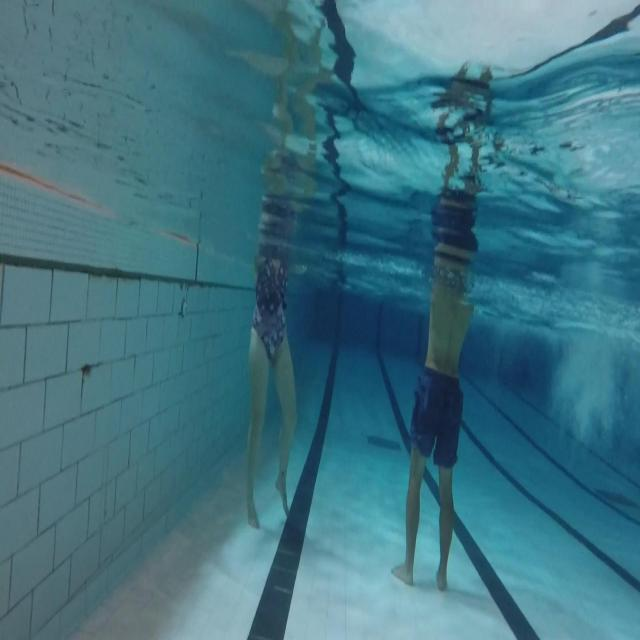human: (390, 61, 495, 591), (242, 218, 310, 544)
